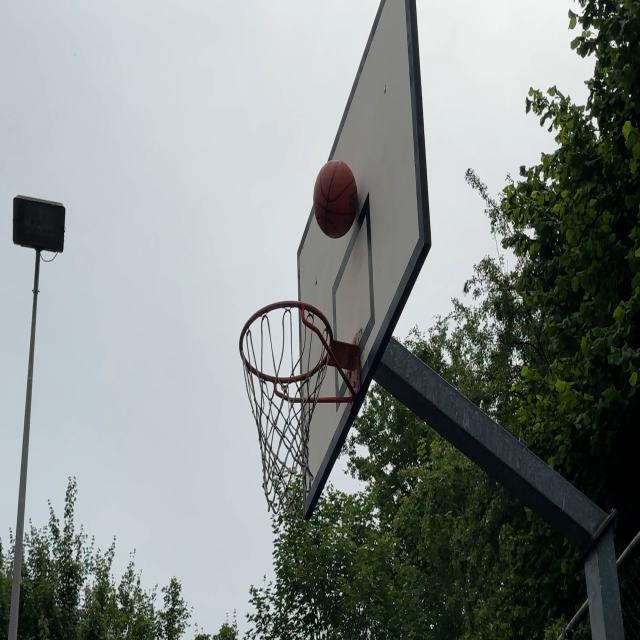rebound_hit: (314, 162, 360, 238)
